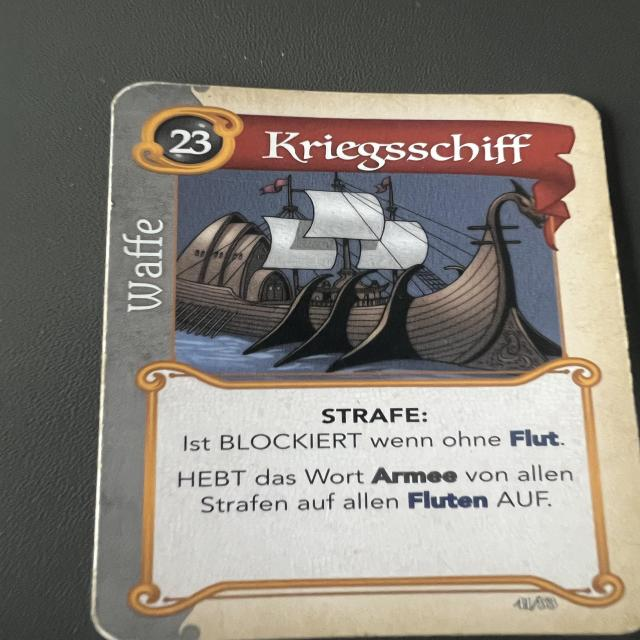Warship: (87, 79, 640, 638)
